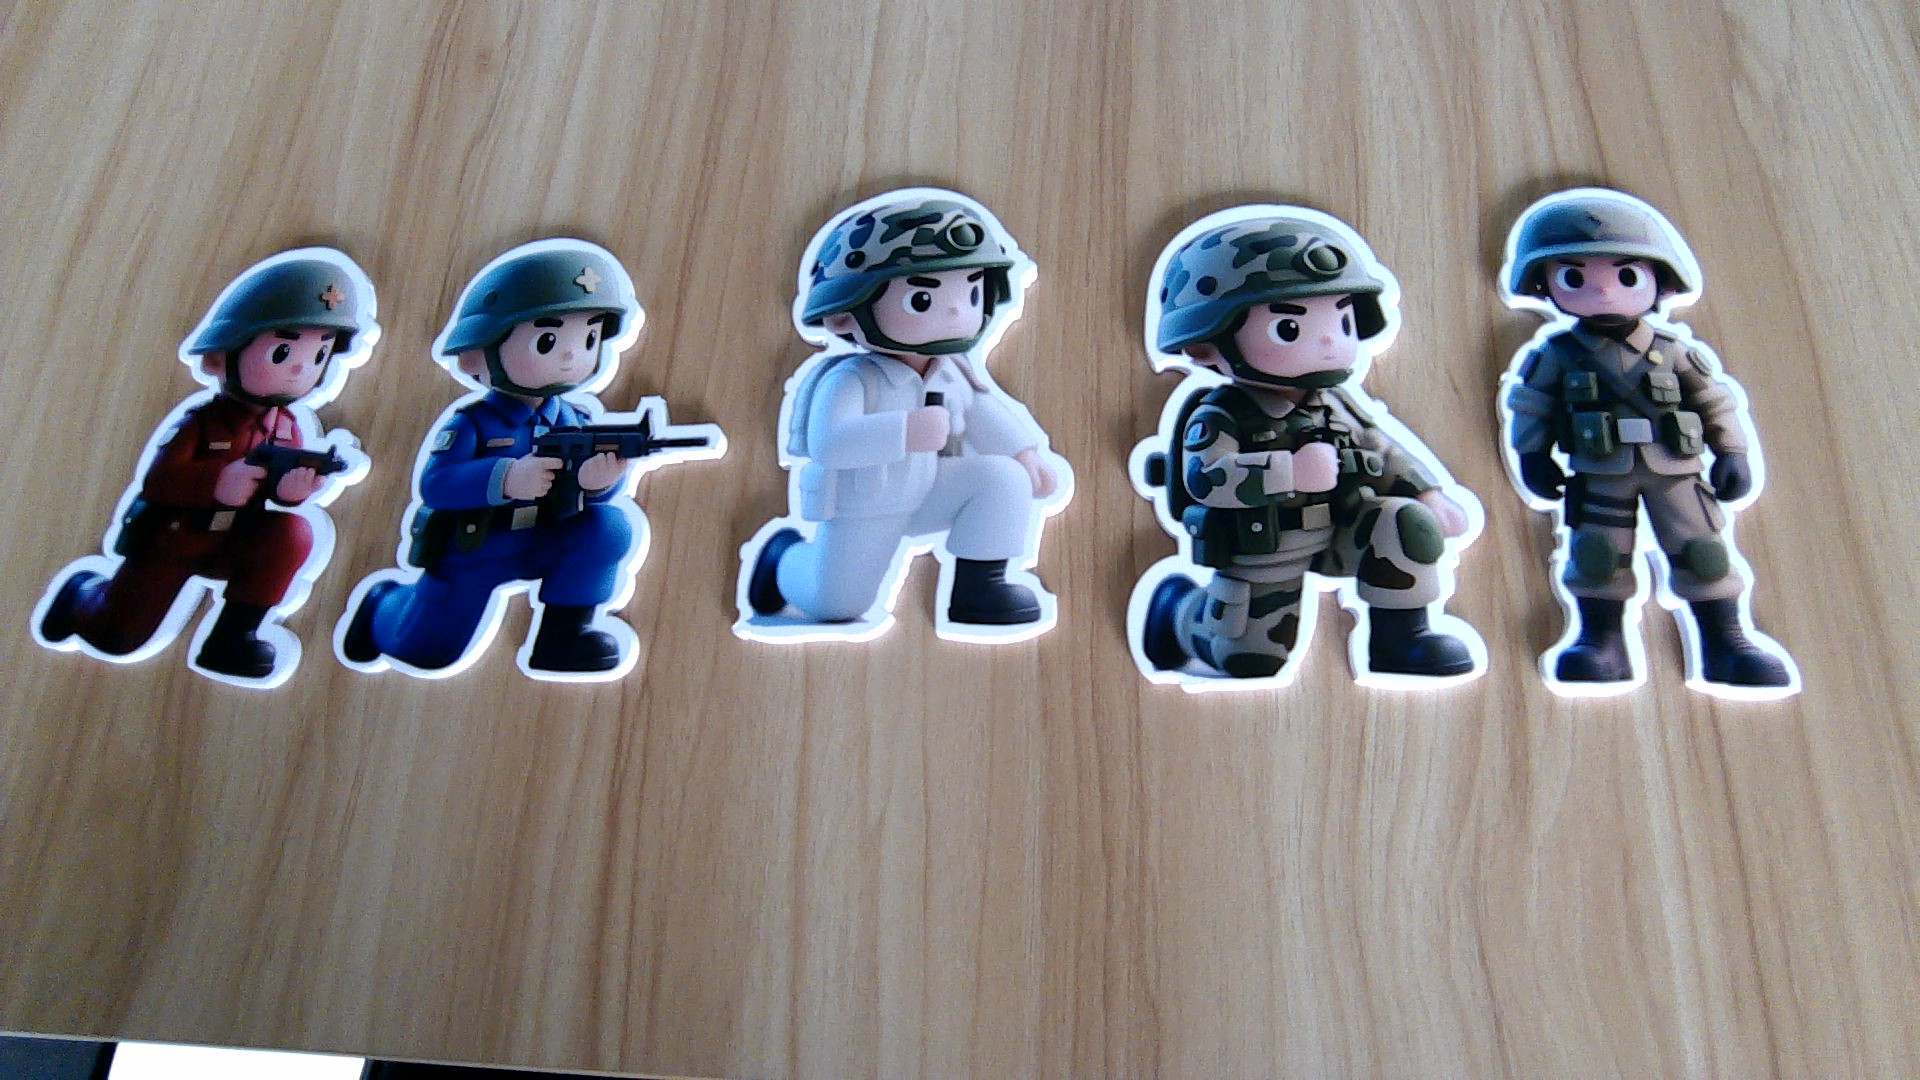人质: (728, 351, 1073, 647)
友军: (1499, 324, 1822, 699), (1124, 390, 1487, 696)
敌人1: (26, 396, 363, 694)
敌人2: (347, 393, 713, 678)
